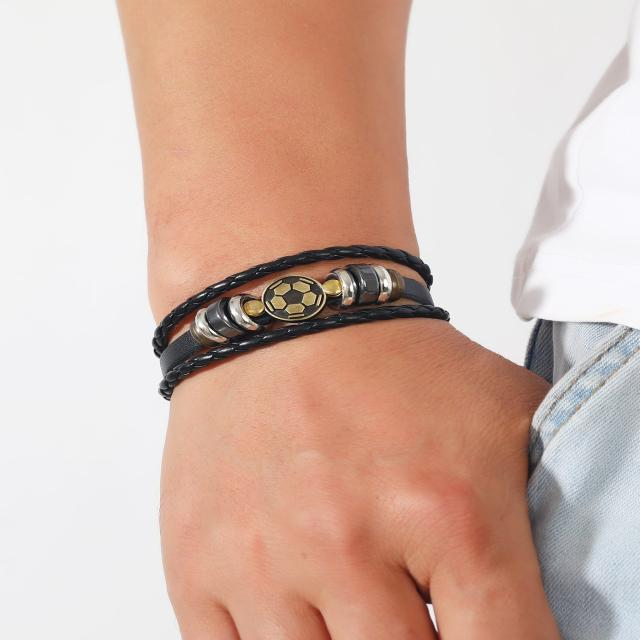bracelet: (104, 218, 530, 387)
